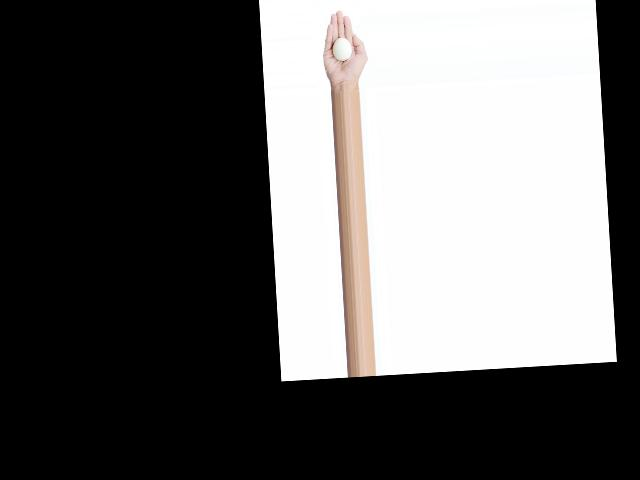egg: (332, 36, 351, 60)
